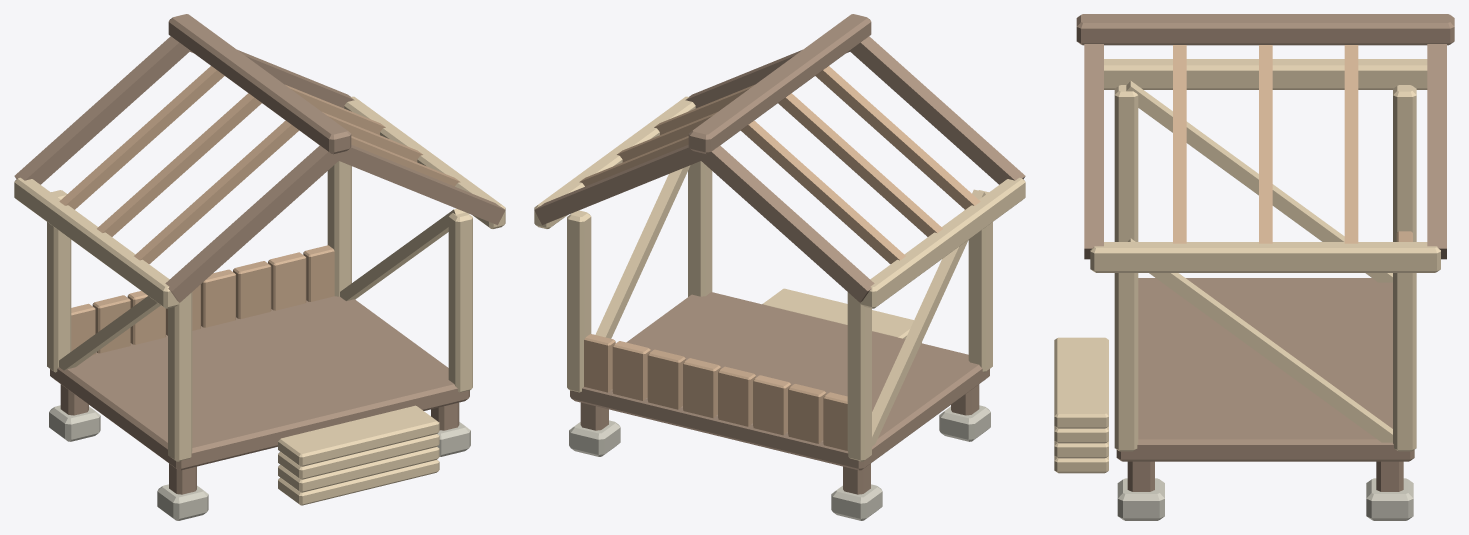
File: crafted-coop-1-building.glb
3 renders of one model, left to right at view 1: azimuth 30°, elevation 25°; view 2: azimuth 150°, elevation 25°; view 3: azimuth 270°, elevation 25°, orthographic. The views are drawn at different scales.
Visible parts, largest first — view 1: floor, ridge-cap, barge-board-1, barge-board, eave-fascia, building-plank-stack-3, corner-post-3, corner-post-1, bare-rafter, bare-rafter-2, bare-rafter-1, barge-board-3 (+25 smaller); view 2: floor, ridge-cap, barge-board, barge-board-1, eave-fascia, corner-post-2, corner-post, bare-rafter-2, bare-rafter, bare-rafter-1, barge-board-2, frame-brace (+23 smaller); view 3: floor, ridge-cap, eave-fascia-1, eave-fascia, frame-brace-1, building-plank-stack-3, corner-post-3, corner-post-2, frame-brace, barge-board-3, barge-board-2, corner-post-1 (+11 smaller).
Part boxes in pixels (x1,y1,x2,y2): floor: (50, 296, 469, 470); ridge-cap: (168, 14, 351, 154); barge-board-1: (165, 145, 342, 302); barge-board: (14, 36, 189, 184); eave-fascia: (14, 177, 179, 308); building-plank-stack-3: (278, 405, 439, 466); corner-post-3: (448, 212, 472, 392); corner-post-1: (168, 292, 192, 461); bare-rafter: (59, 66, 224, 209); bare-rafter-2: (134, 120, 298, 264); bare-rafter-1: (97, 93, 261, 236); barge-board-3: (336, 145, 505, 225); floor: (570, 292, 989, 470); ridge-cap: (688, 14, 871, 154); barge-board: (697, 145, 874, 302); barge-board-1: (849, 36, 1025, 184); eave-fascia: (860, 177, 1025, 308); corner-post-2: (567, 210, 591, 392); corner-post: (847, 292, 871, 461); bare-rafter-2: (815, 66, 980, 209); bare-rafter: (741, 120, 905, 264); bare-rafter-1: (778, 93, 942, 236); barge-board-2: (534, 145, 703, 225); frame-brace: (872, 189, 985, 446); floor: (1116, 278, 1414, 461); ridge-cap: (1076, 14, 1454, 45); eave-fascia-1: (1090, 242, 1440, 272); eave-fascia: (1104, 59, 1427, 89); frame-brace-1: (1128, 238, 1392, 442); building-plank-stack-3: (1054, 337, 1108, 428); corner-post-3: (1114, 273, 1138, 451); corner-post-2: (1393, 273, 1416, 451); frame-brace: (1126, 81, 1392, 282); barge-board-3: (1084, 44, 1103, 259); barge-board-2: (1427, 44, 1446, 259); corner-post-1: (1114, 85, 1138, 241).
Size of the model in its own units: 1.83 by 1.87 by 1.61.
